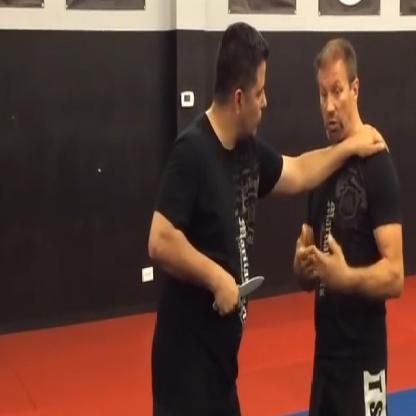knife: (209, 269, 265, 318)
